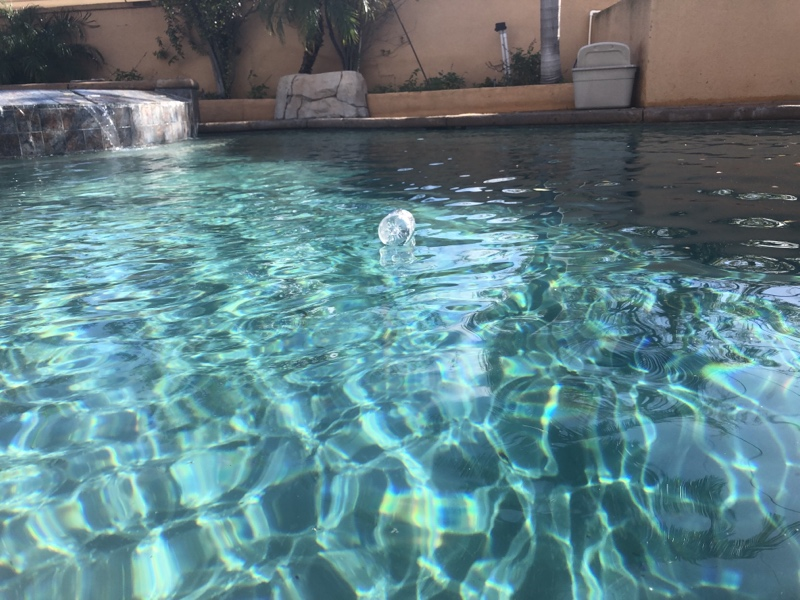Plastic Bottle: (376, 207, 417, 248)
